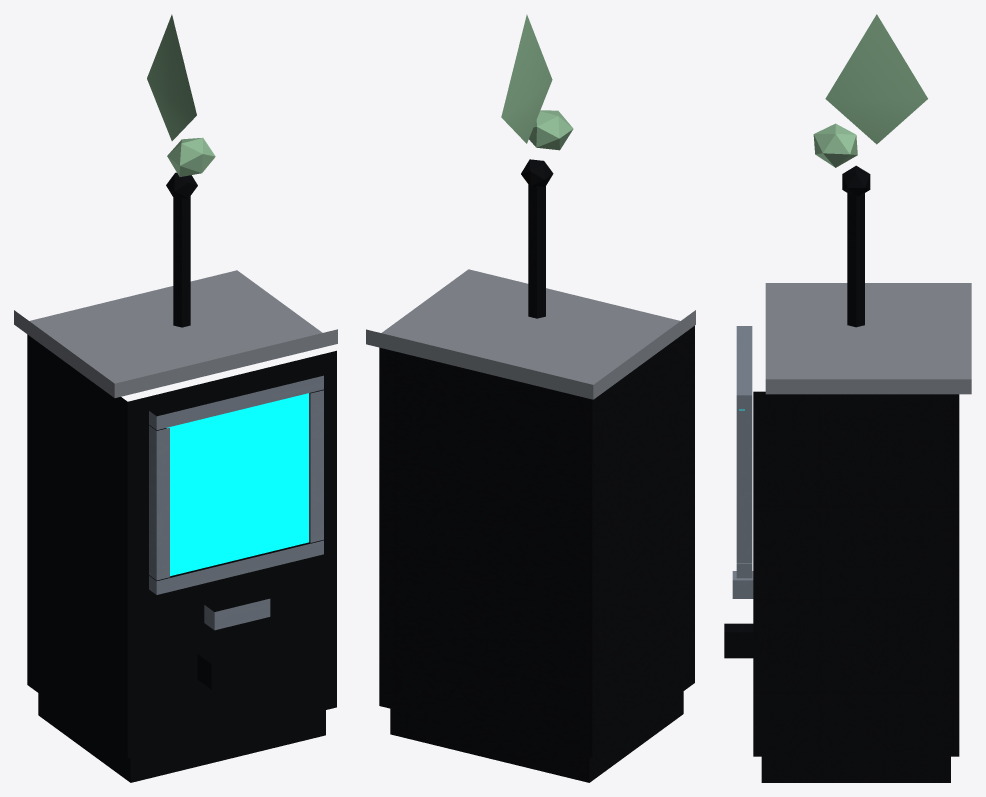
The model's file is v3_branch_kiosk.glb.
The picture shows the model from 3 angles, left to right: view 1: azimuth 30°, elevation 25°; view 2: azimuth 150°, elevation 25°; view 3: azimuth 270°, elevation 25°; orthographic projection. The views are drawn at different scales.
Visible parts, largest first — view 1: Kiosk_Body, Kiosk_Top, Kiosk_Screen, Kiosk_Bezel, Fork_Leaves, Branch_Stem, Ticket_Mouth, Card_Slot; view 2: Kiosk_Body, Kiosk_Top, Fork_Leaves, Branch_Stem; view 3: Kiosk_Body, Kiosk_Top, Fork_Leaves, Kiosk_Bezel, Branch_Stem, Ticket_Mouth, Card_Slot.
Boxes of the visible parts, x1,y1,x2,y2 form: Kiosk_Body: (27,334,336,782); Kiosk_Top: (14,270,337,397); Kiosk_Screen: (166,393,308,576); Kiosk_Bezel: (149,375,323,594); Fork_Leaves: (147,14,215,176); Branch_Stem: (166,172,197,327); Ticket_Mouth: (197,647,281,689); Card_Slot: (204,598,270,630); Kiosk_Body: (379,325,694,782); Kiosk_Top: (366,269,695,399); Fork_Leaves: (501,14,573,150); Branch_Stem: (521,159,553,318); Kiosk_Body: (753,391,959,782); Kiosk_Top: (765,283,971,394); Fork_Leaves: (813,14,927,167); Kiosk_Bezel: (736,326,752,578); Branch_Stem: (842,165,870,327); Ticket_Mouth: (724,623,753,658); Card_Slot: (732,571,753,598).
Size of what is drawn, in the model's own units: 0.64 by 1.93 by 0.6.
5 materials, 2 textured.
